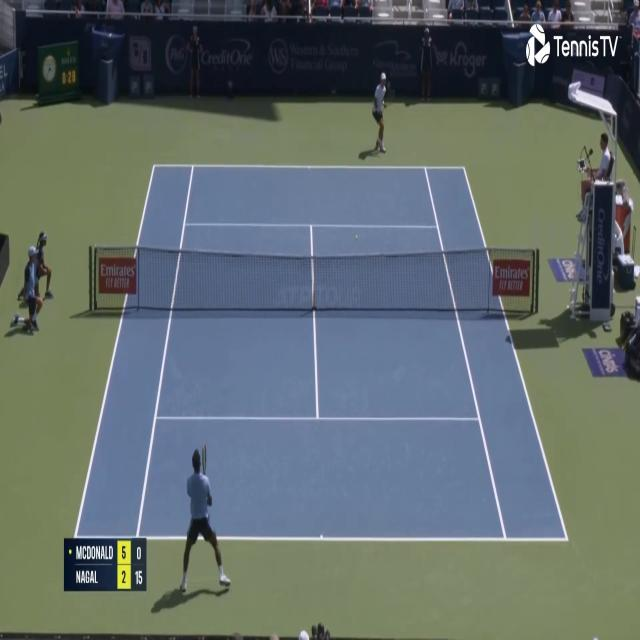tennis-player: (176, 440, 234, 602), (370, 68, 391, 155)
